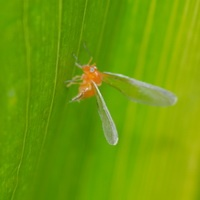insect: (66, 63, 176, 144)
